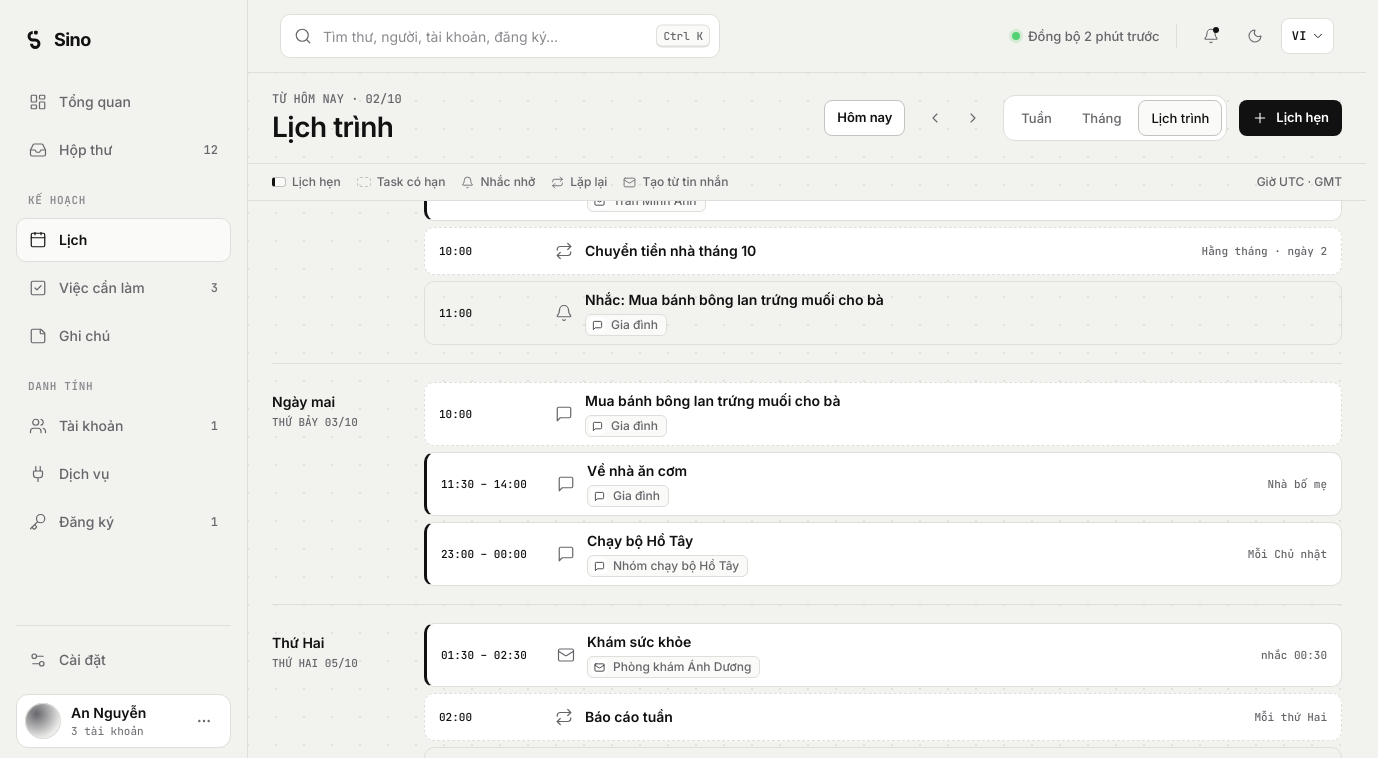
Test: Lịch as an agenda › opens an appointment from the agenda in the right column
(page scrolled)
Click the link "11:30 – 14:00 Về nhà ăn cơm Gia đình Nhà bố mẹ". click: (484, 484)
box: [424,452,1342,516]
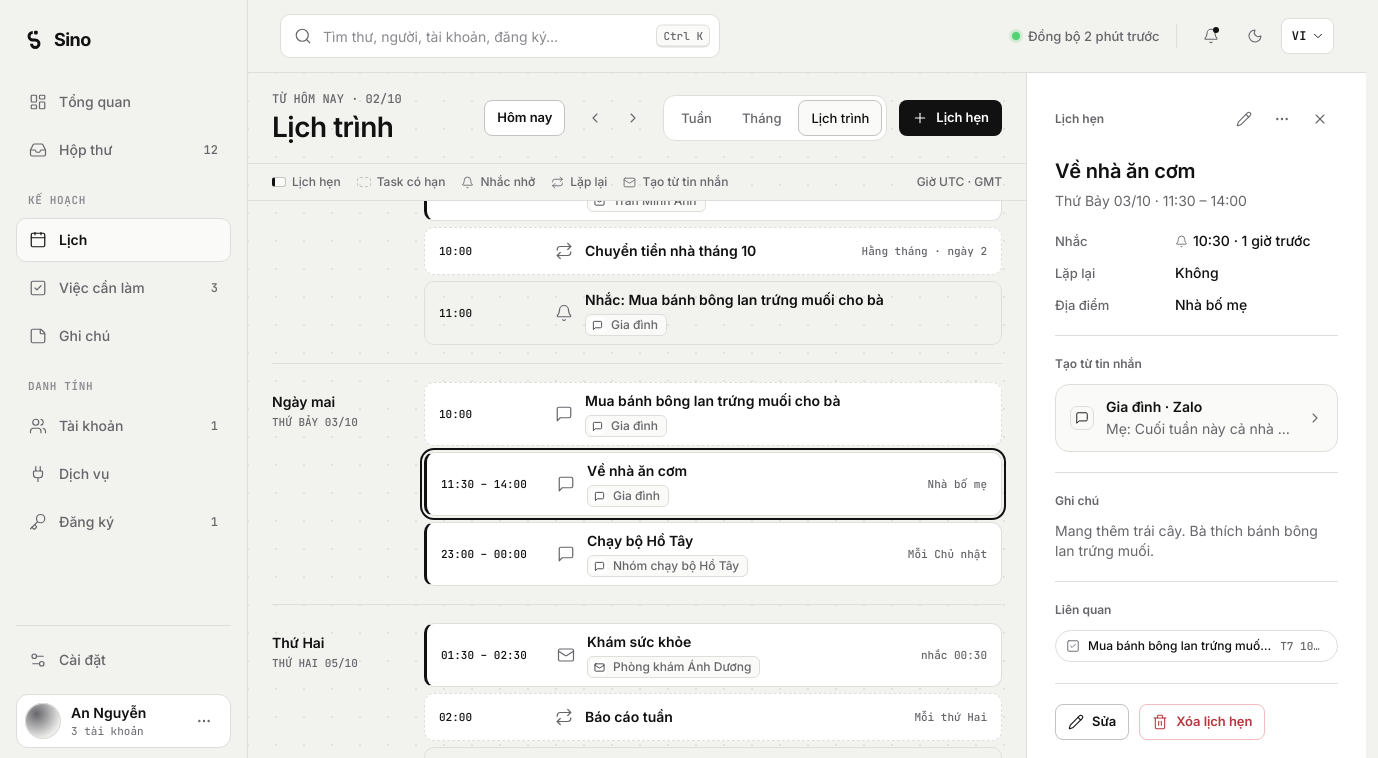
Result: the heading "Về nhà ăn cơm" is shown at [1055,159,1195,183]
